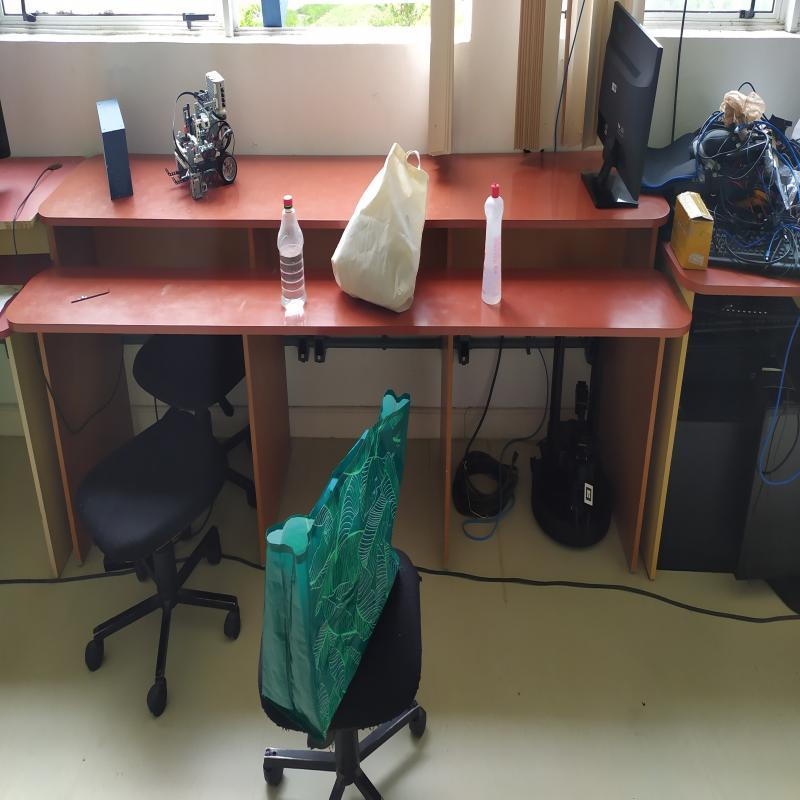Bag: (255, 387, 415, 745), (331, 141, 430, 314)
